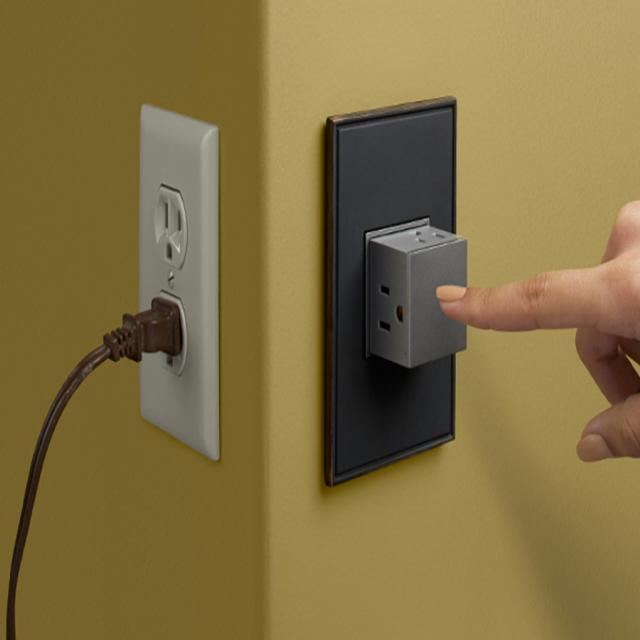typeb: (102, 83, 243, 501)
